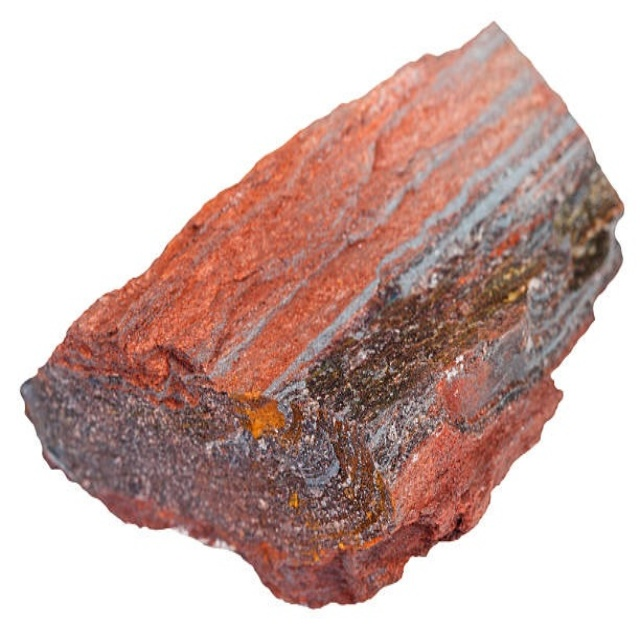obstacle: (22, 24, 622, 606)
